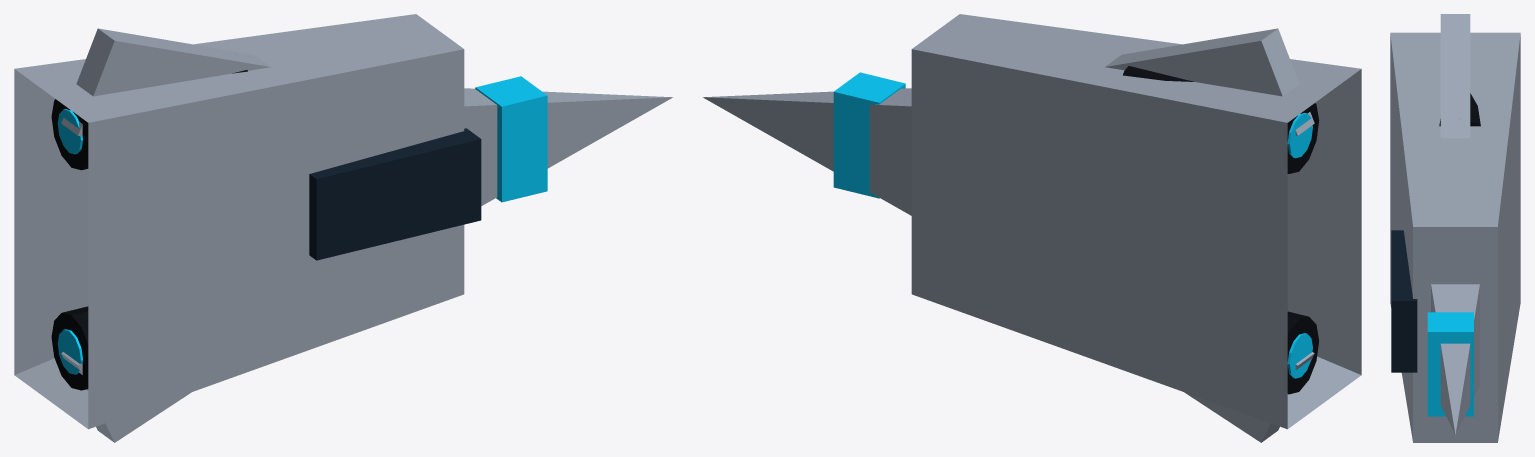
Rendered from vanguard.obj.
The picture shows the model from 3 angles, left to right: view 1: azimuth 30°, elevation 25°; view 2: azimuth 150°, elevation 25°; view 3: azimuth 270°, elevation 25°; orthographic projection. The views are drawn at different scales.
Parts seen in each view (by area): view 1: vanguard; view 2: vanguard; view 3: vanguard.
Part boxes in pixels (<box>): vanguard: <box>14,14,672,442</box>; vanguard: <box>703,14,1361,442</box>; vanguard: <box>1390,14,1520,442</box>.
Bounding box in the file's own units: 6.8 × 4.2 × 1.4.
